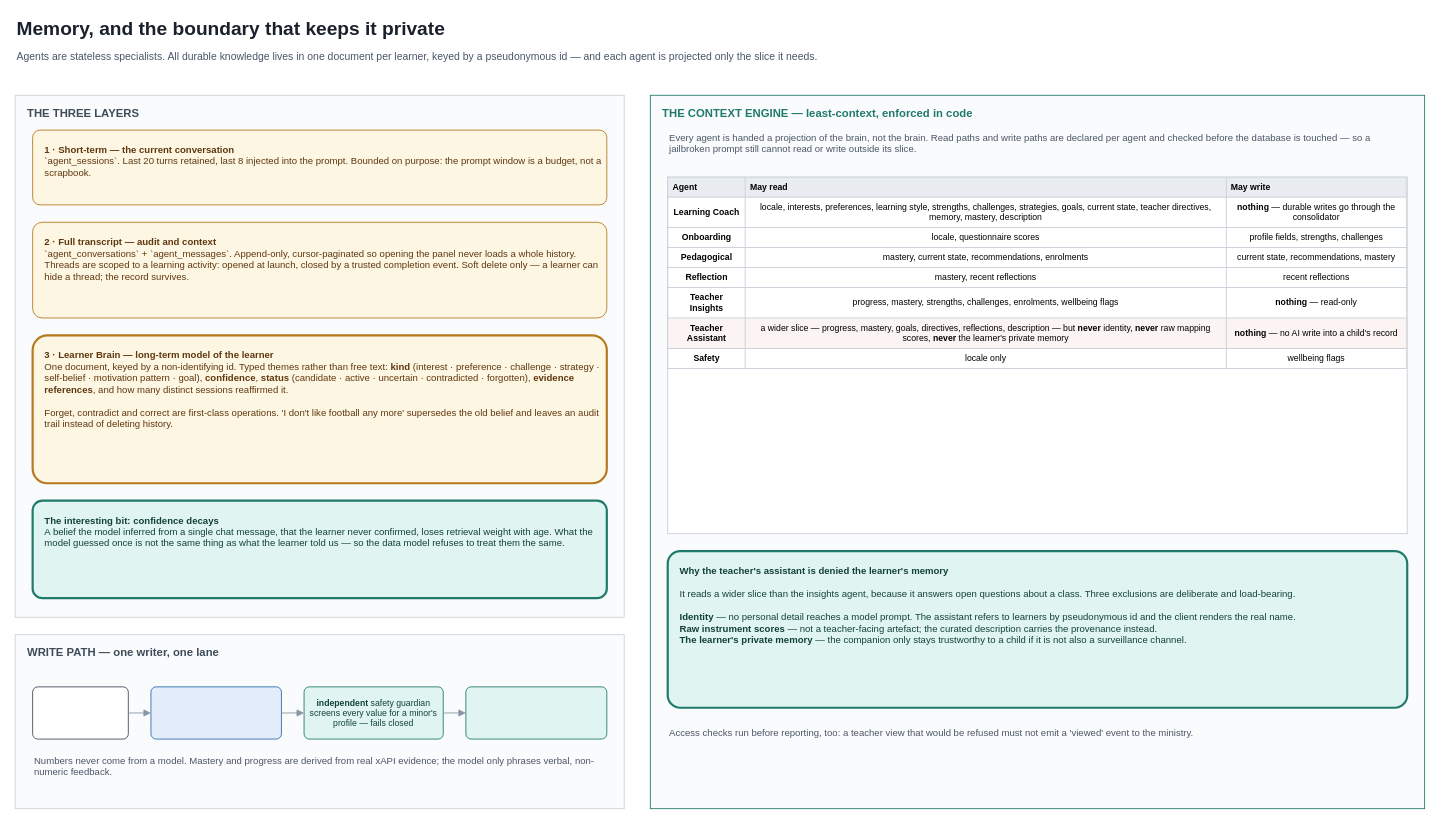
This 1440x824 diagram has some shape labels left out. The shapes that lost their labels are listed below. From the top down, each one's centre as x and y in pixels, then its label:
point 80,712: learner turn
point 215,712: mini model extracts candidates, judged against what is already stored
point 536,712: single writer, hard-capped field set — chat can never write mastery
